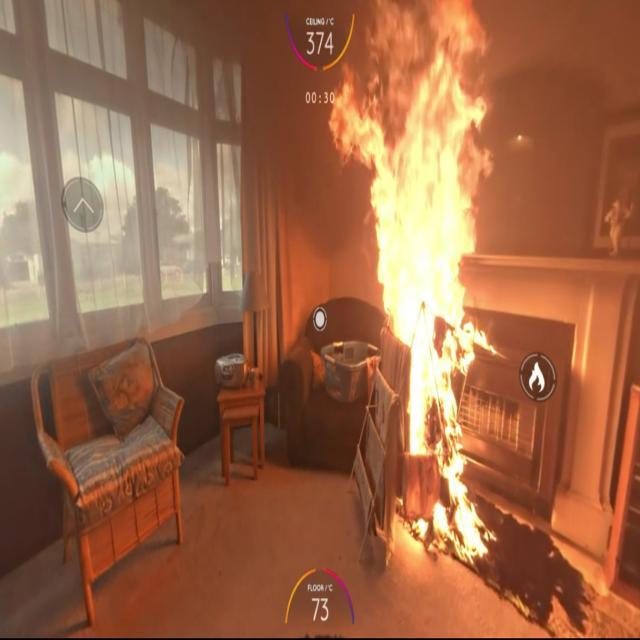Fire: (326, 0, 499, 561)
Smoke: (152, 0, 369, 246), (493, 60, 599, 244)
